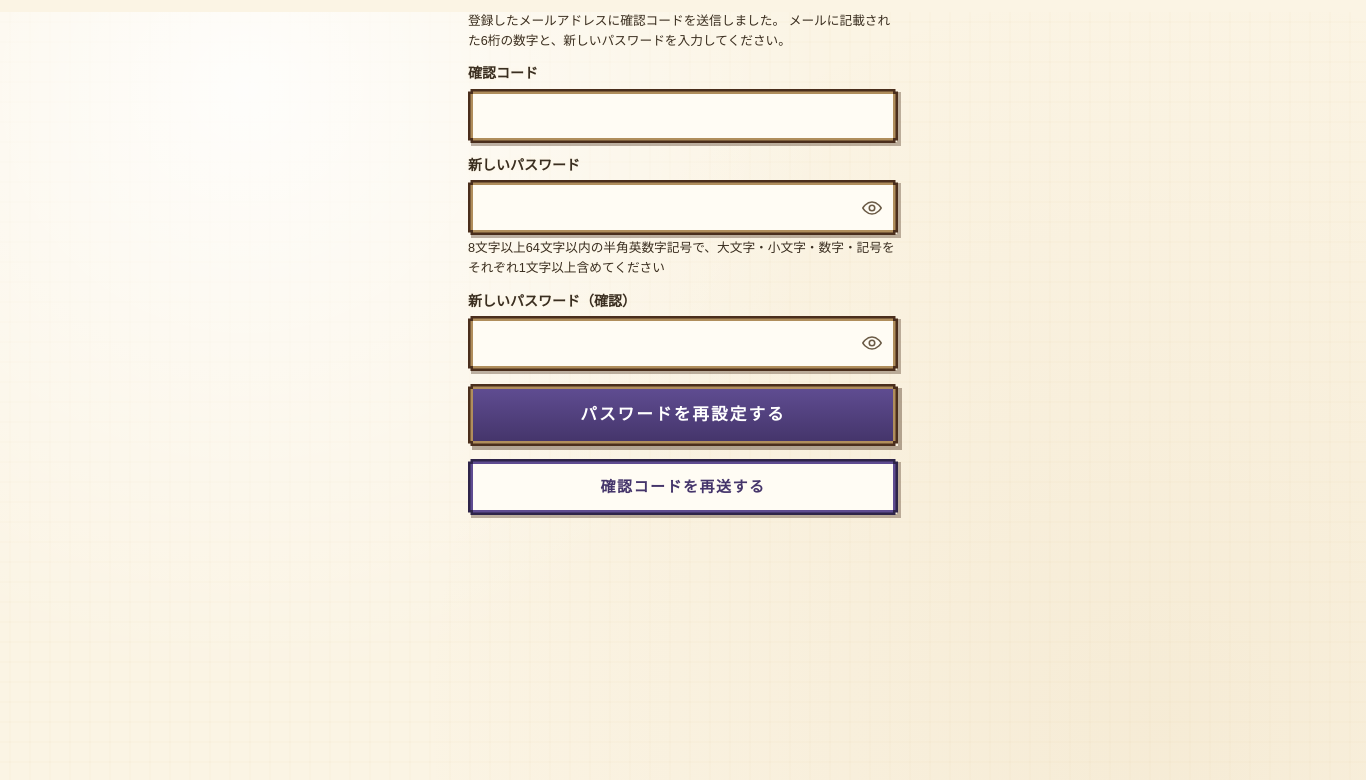
Test case: PasswordResetConfirmForm › 確認コードが6桁でない場合は送信しない
This screenshot has width=1366, height=780.
In the field labelled "確認コード": (683,116) [468,89,898,143], type "12345"
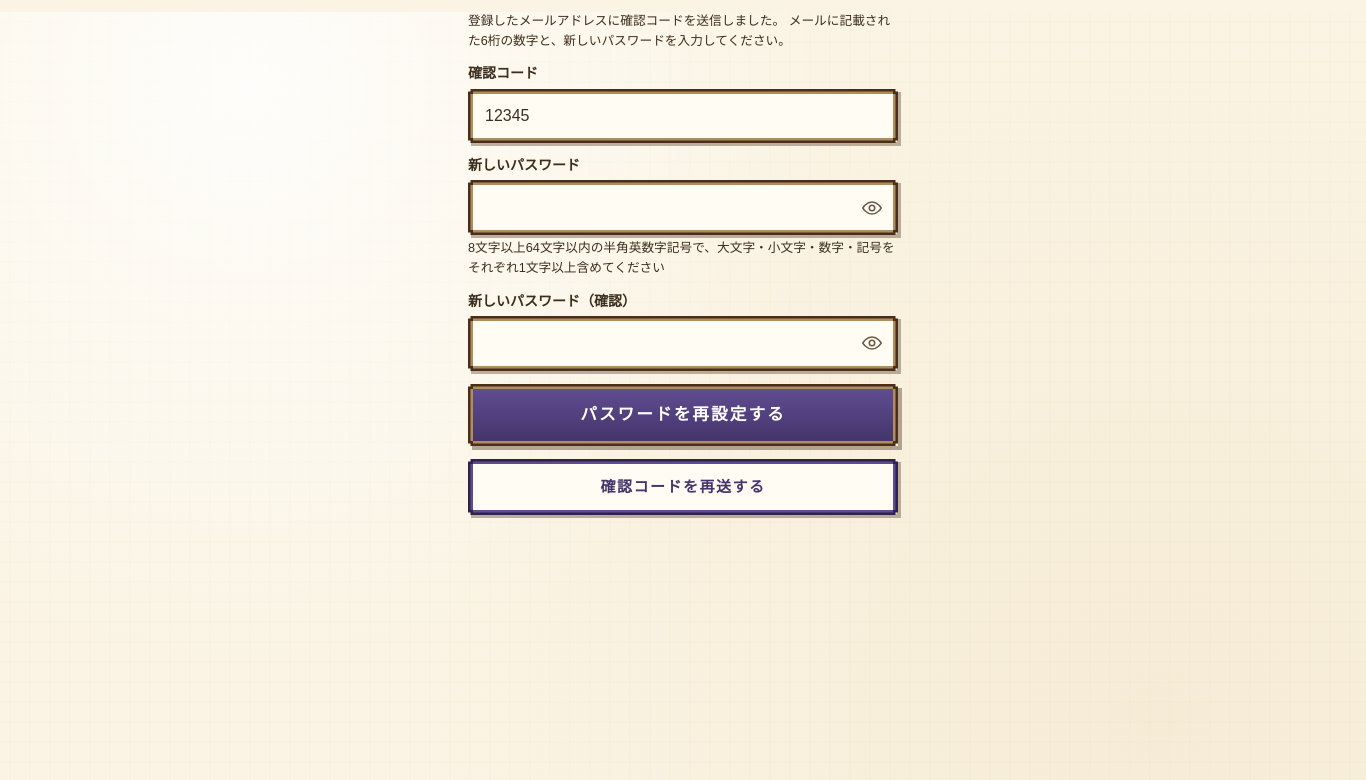
In the password field labelled "新しいパスワード": (683,208) [468,180,898,235], type "Abcdef1!"
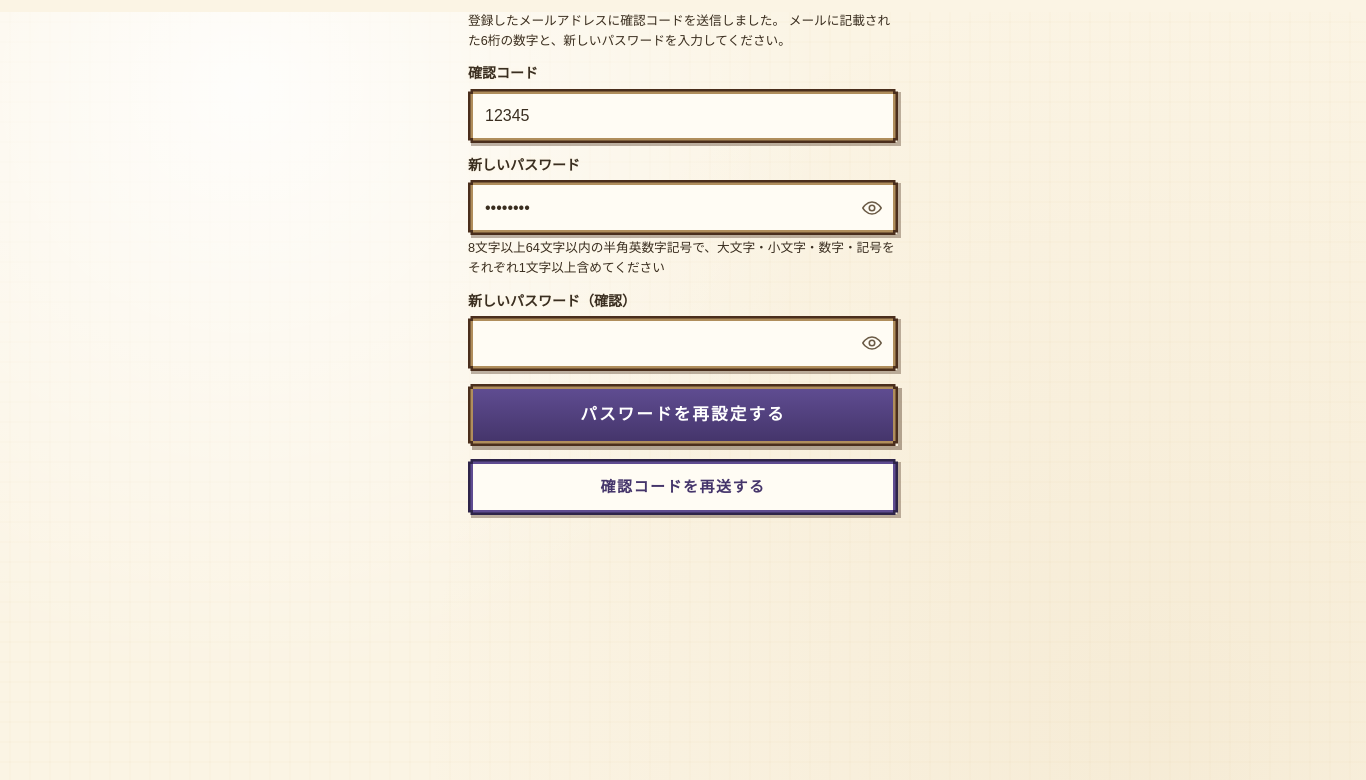
In the password field labelled "新しいパスワード（確認）": (683,343) [468,316,898,371], type "Abcdef1!"
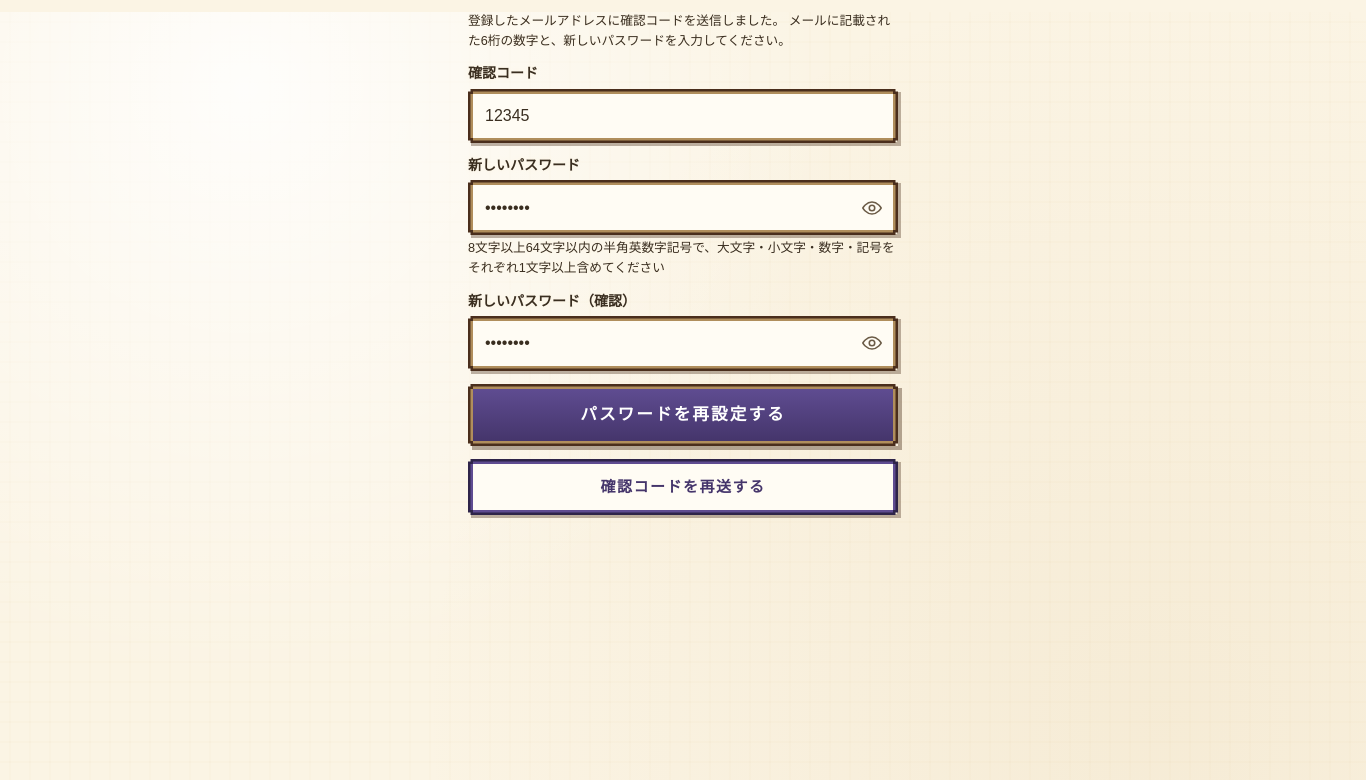
Submit the form, box [468,12,898,515]
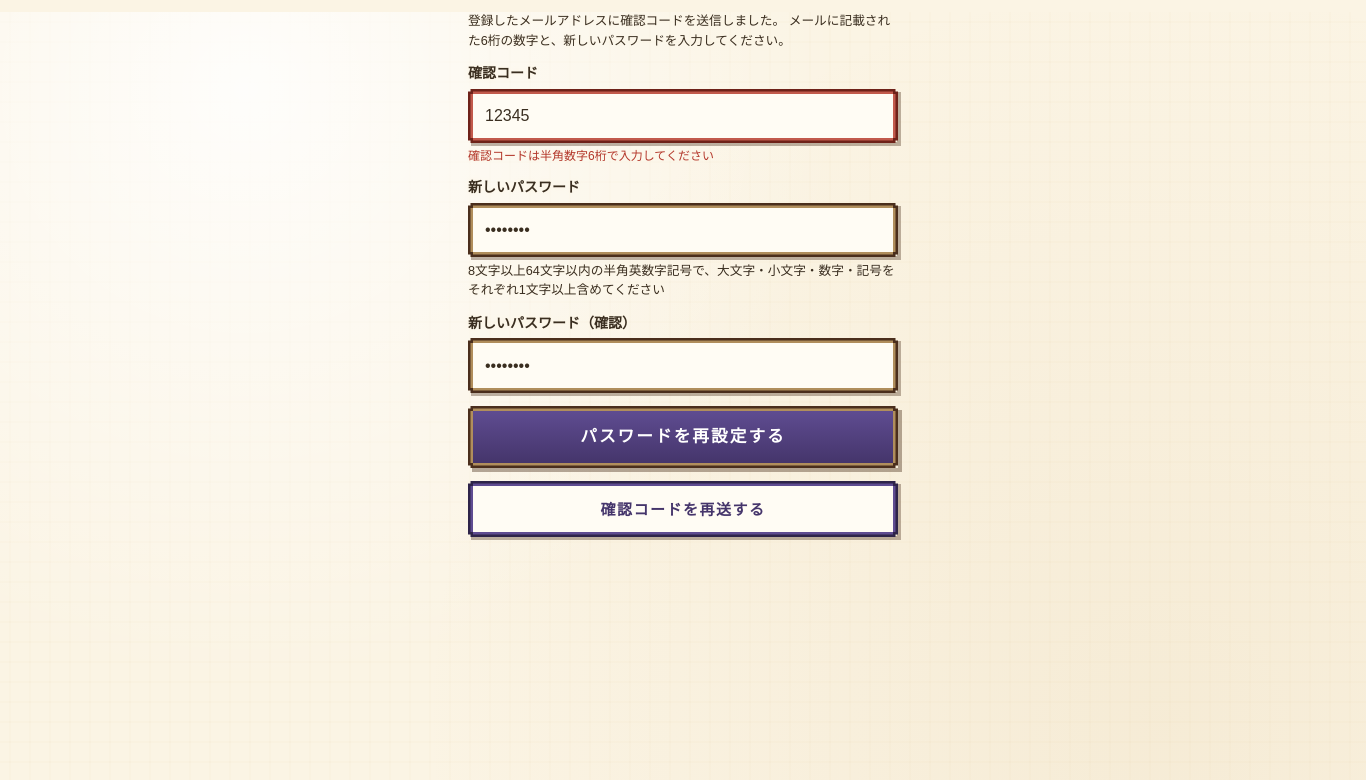
Check: the text "確認コードは半角数字6桁で入力してください" is shown, box [468,149,714,163]
